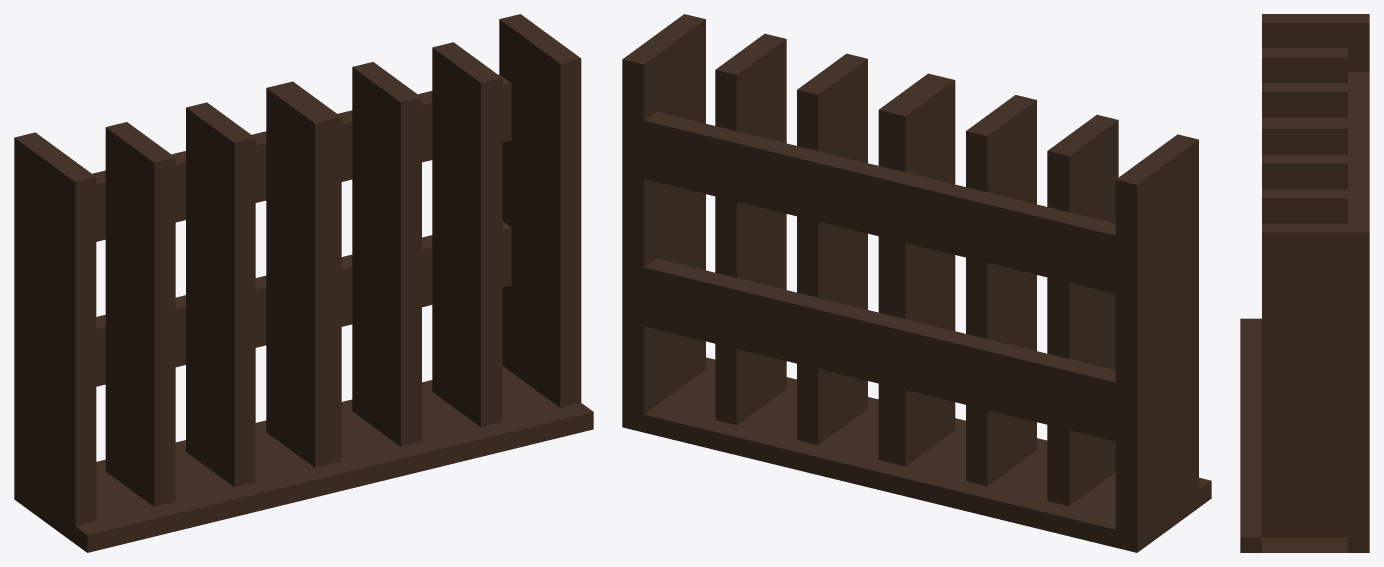
File: Weapon_Rack.fbx
The picture shows the model from 3 angles, left to right: view 1: azimuth 30°, elevation 25°; view 2: azimuth 150°, elevation 25°; view 3: azimuth 270°, elevation 25°; orthographic projection. The views are drawn at different scales.
Parts seen in each view (by area): view 1: Weapon Rack; view 2: Weapon Rack; view 3: Weapon Rack.
Part boxes in pixels (bbox=[...]): Weapon Rack: bbox=[14, 14, 593, 552]; Weapon Rack: bbox=[622, 14, 1211, 552]; Weapon Rack: bbox=[1240, 14, 1369, 552].
Bounding box in the file's own units: 3 × 2.05 × 0.75.
